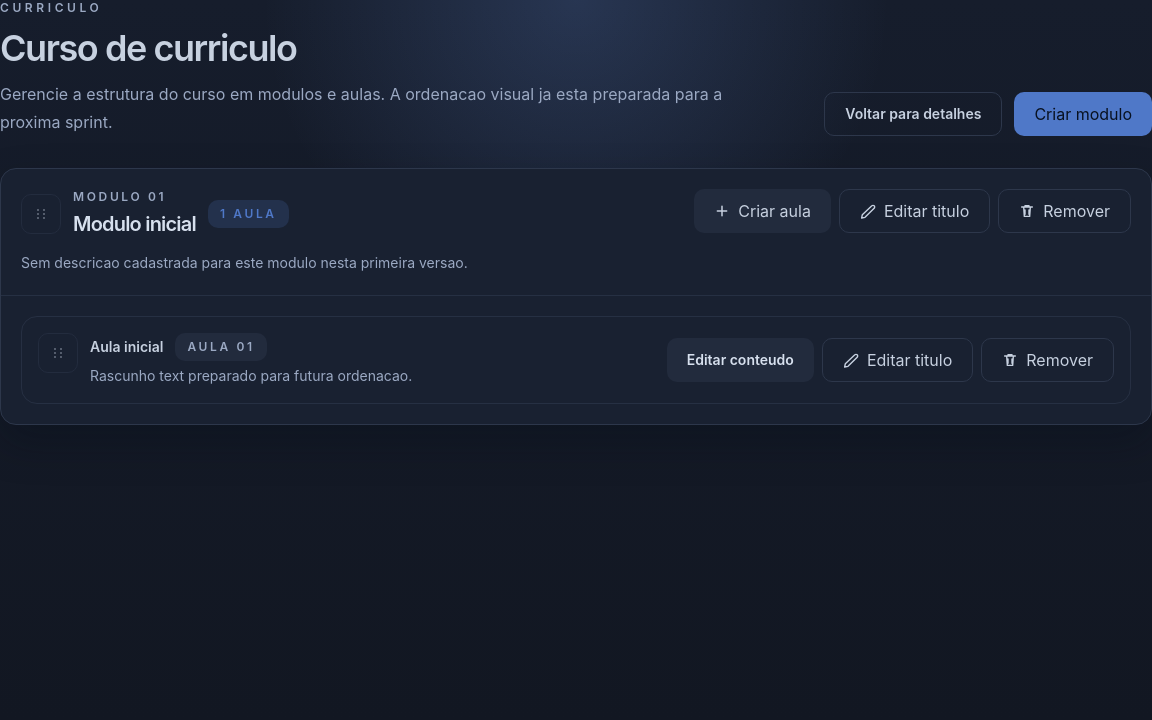
Test: CourseCurriculumScreen › edits module and lesson titles
The image size is (1152, 720).
Expected: the heading "Modulo inicial" is shown, [73,209,196,239]
Click the button "Editar titulo" in the row of "1 aula": [915, 211] box [839,189,990,233]
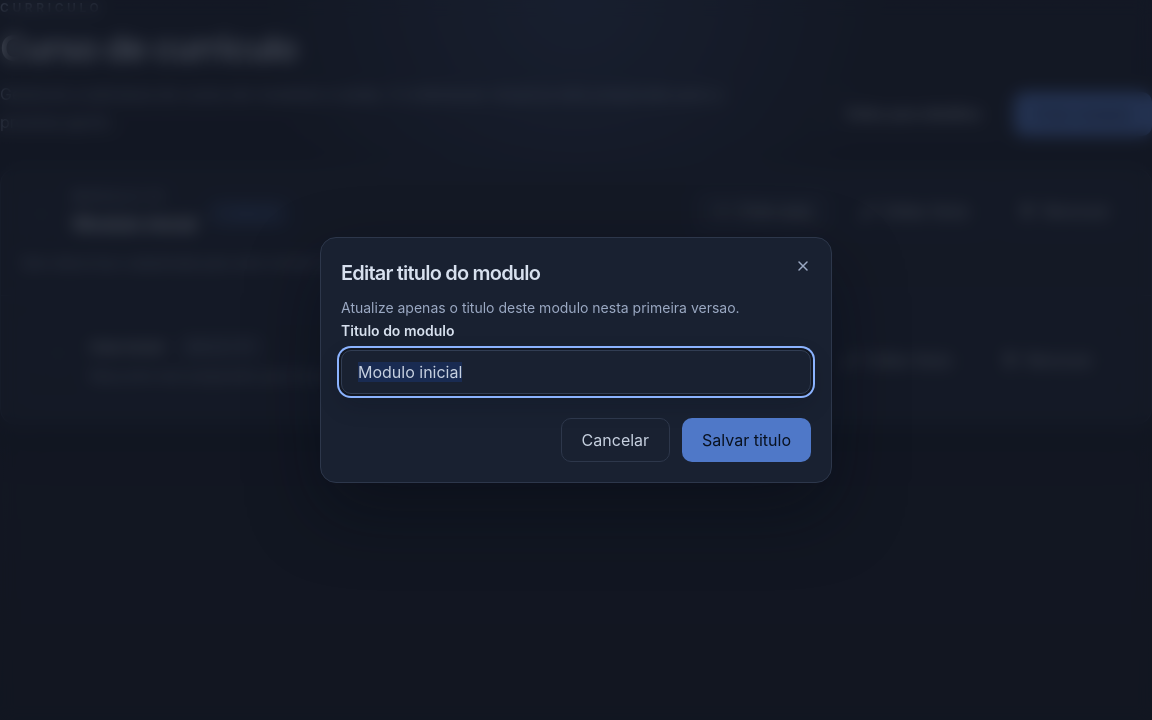
Replace the text in the field labelled "Titulo do modulo" with "Modulo renomeado": [576, 372] box [341,350,811,394]
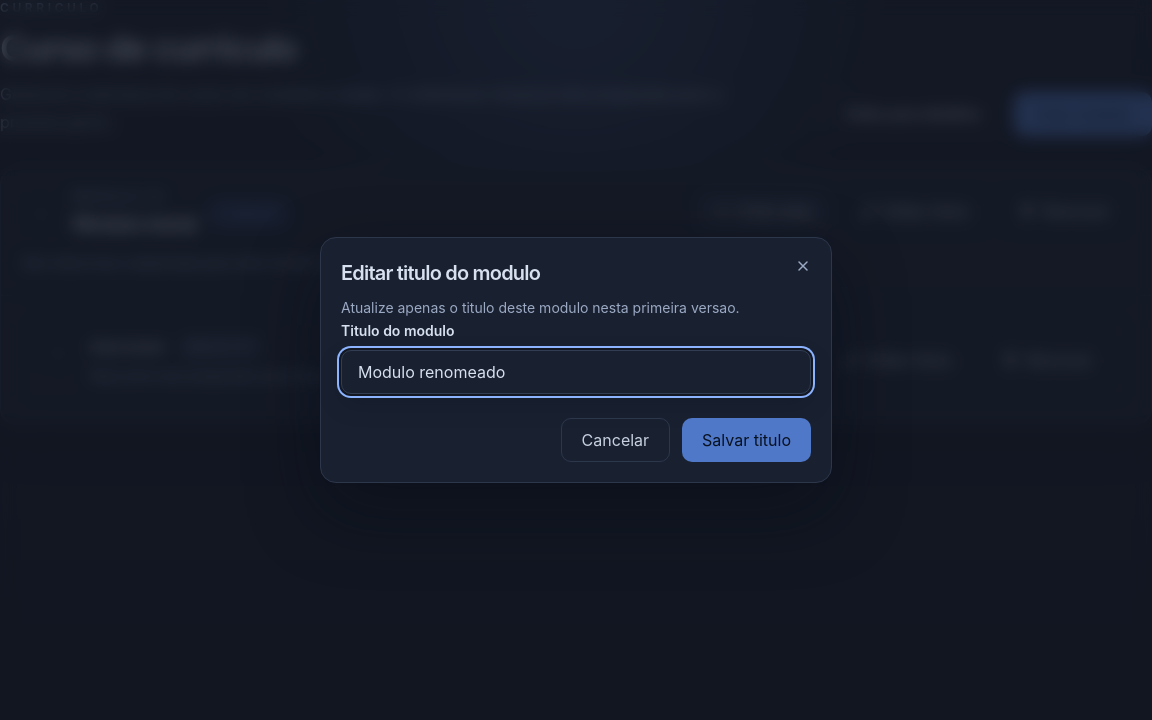
Click the button "Salvar titulo": [747, 440] box [682,418,811,462]
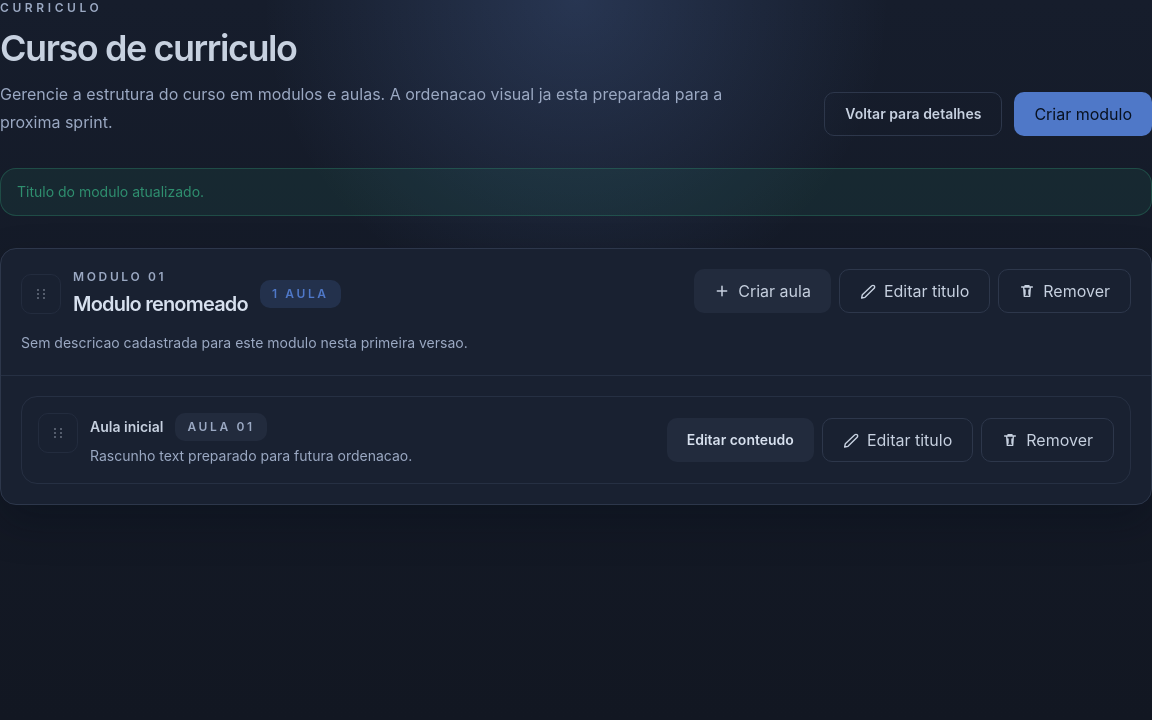
Result: the heading "Modulo renomeado" is shown at [73,289,248,319]
Click the button "Editar titulo" next to "Editar conteudo": [898, 440] box [822,418,973,462]
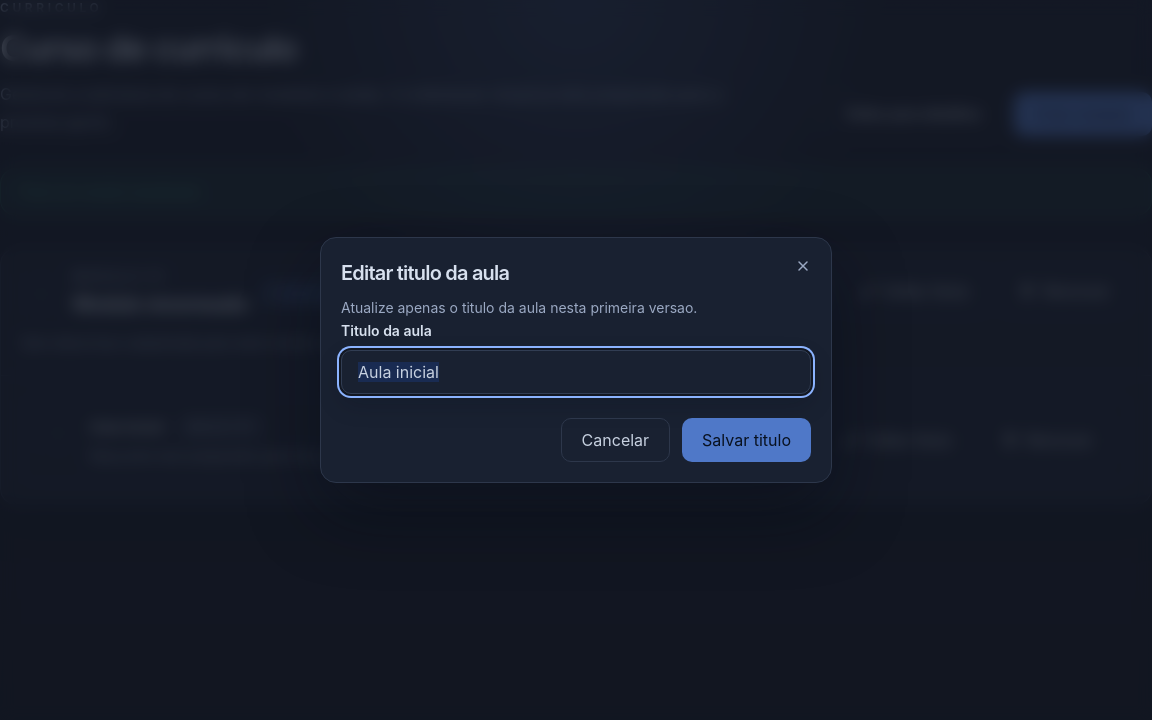
Replace the text in the field labelled "Titulo da aula" with "Aula renomeada": [576, 372] box [341,350,811,394]
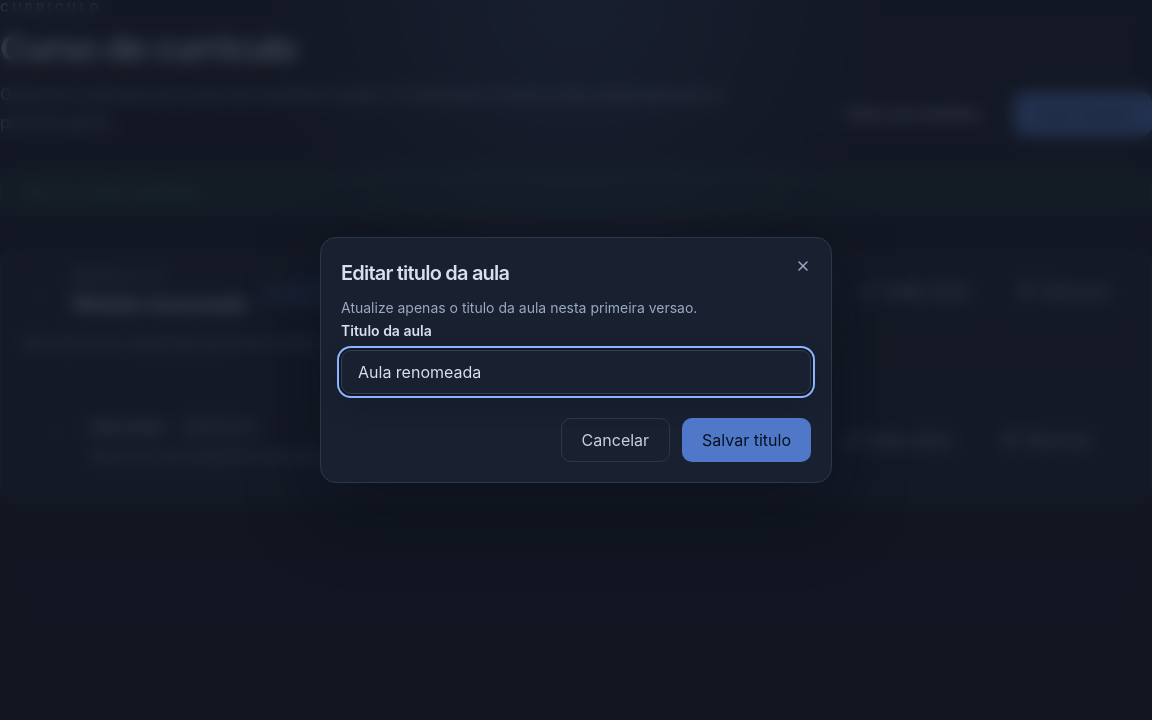
Click the button "Salvar titulo": [747, 440] box [682,418,811,462]
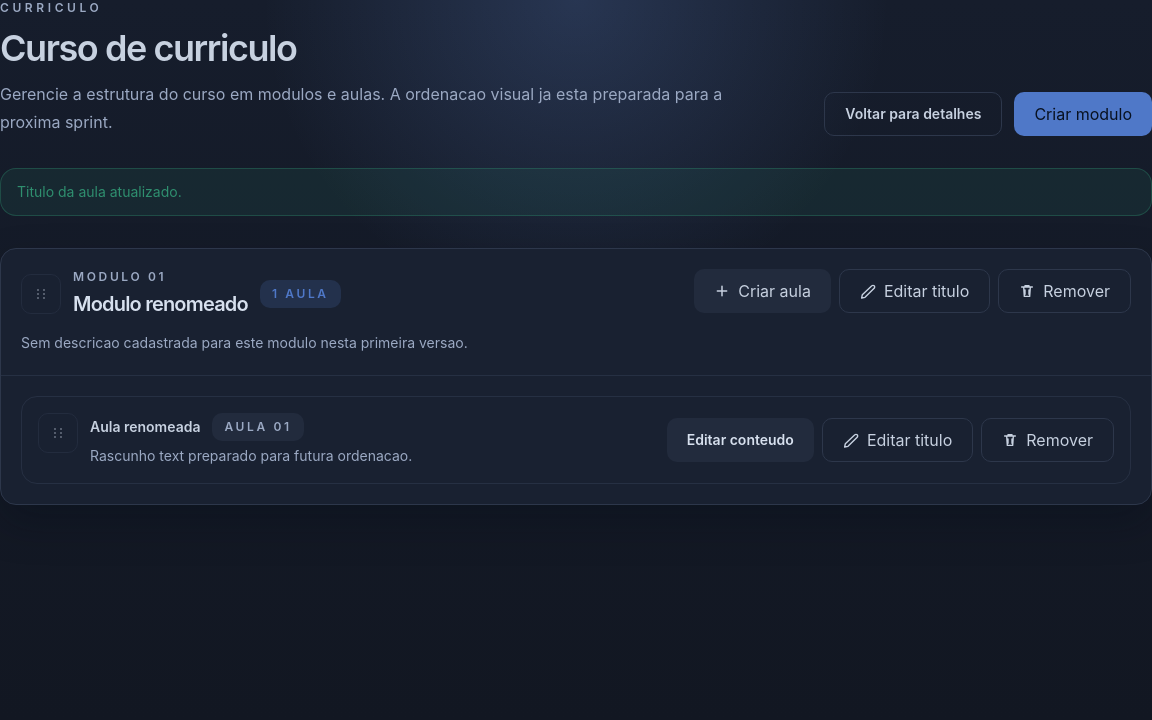
Result: the text "Aula renomeada" is shown at [90,416,200,438]
